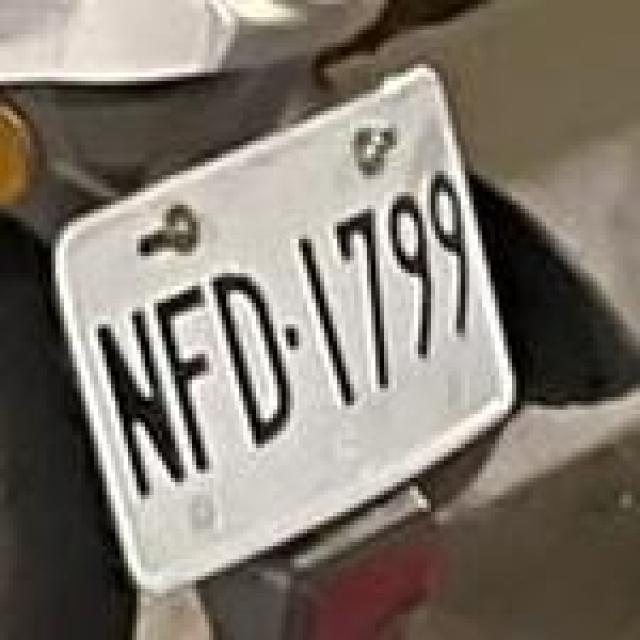W: (52, 58, 523, 606)
